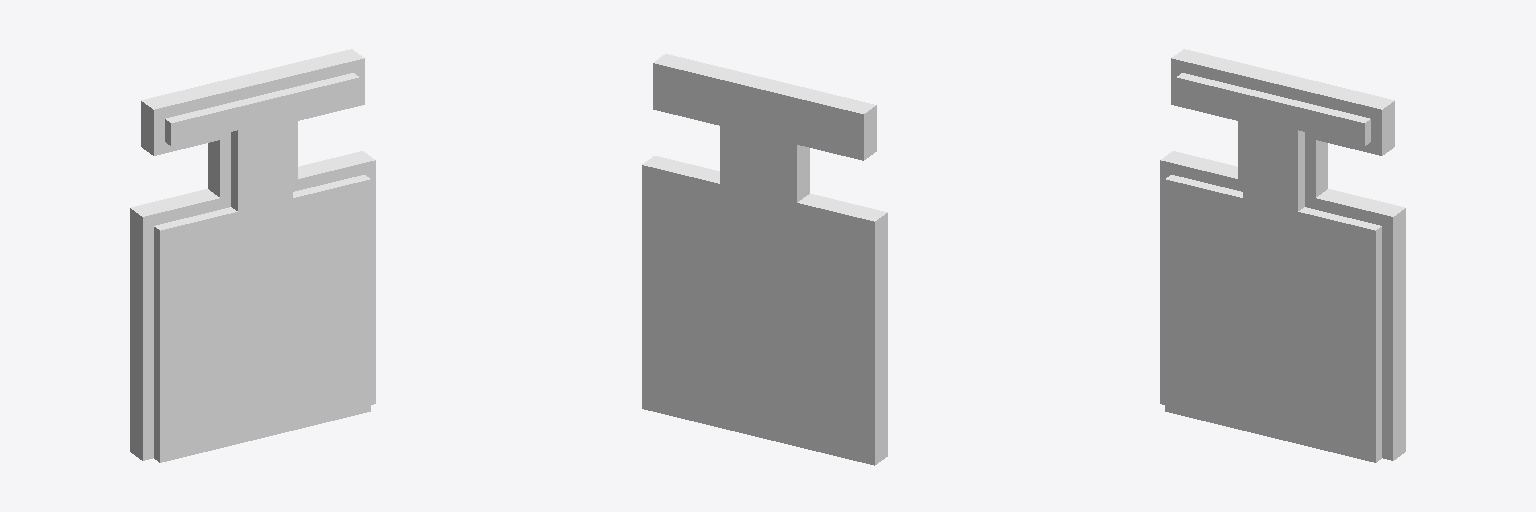
File: chair_back.obj
3 renders of one model, left to right at view 1: azimuth 30°, elevation 25°; view 2: azimuth 150°, elevation 25°; view 3: azimuth 330°, elevation 25°, orthographic.
Parts seen in each view (by area): view 1: object 1; view 2: object 1; view 3: object 1.
Part boxes in pixels (bbox=[...]): object 1: bbox=[130, 49, 375, 462]; object 1: bbox=[642, 54, 887, 465]; object 1: bbox=[1160, 49, 1405, 462].
Bounding box in the file's own units: 2.1 × 3 × 0.3.